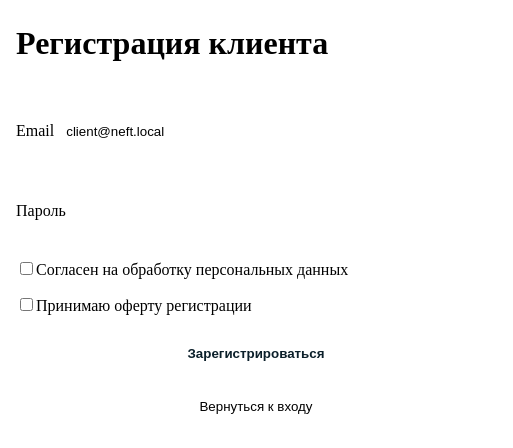
Test: SignupPage › Case A — signup conflict shows message, keeps email, and does not redirect
In the field labelled "Email": (155, 131) [54,99,255,163], type "existing@neft.local"
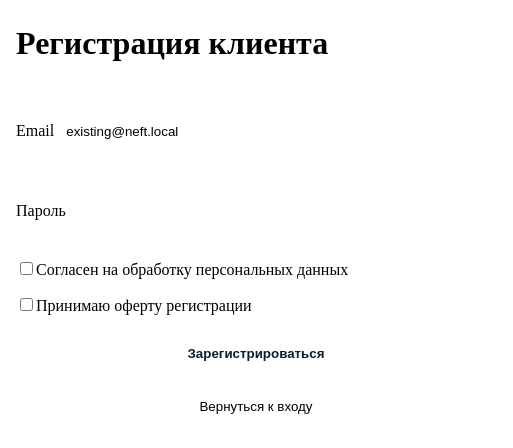
In the password field labelled "Пароль": (166, 211) [66,179,267,243], type "Pass123!"
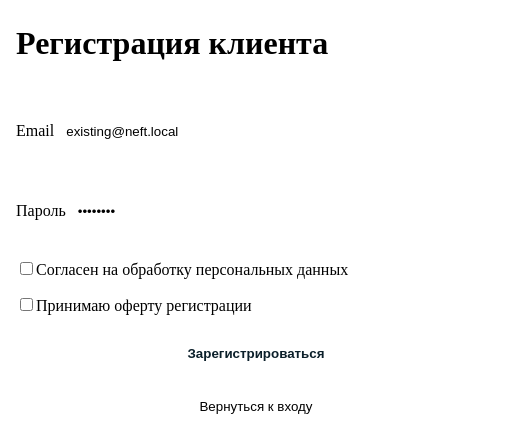
Click the checkbox labelled "Согласен на обработку персональных данных": (26, 269) [20,262,33,275]
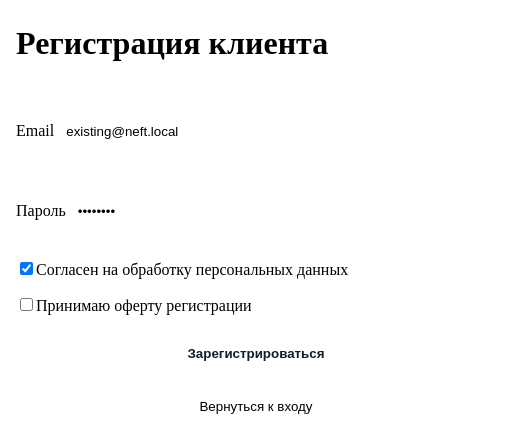
Click the checkbox labelled "Принимаю оферту регистрации": (26, 305) [20,298,33,311]
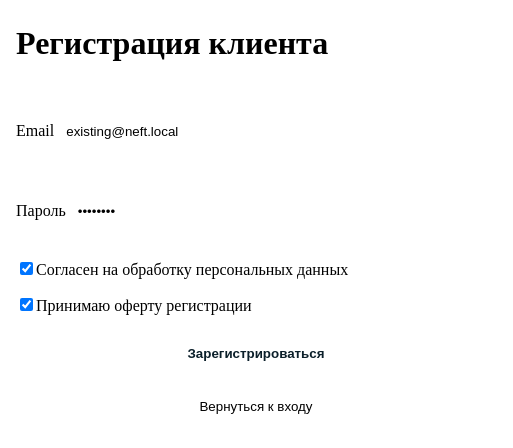
Click the button "Зарегистрироваться": (256, 353) [16,331,496,375]
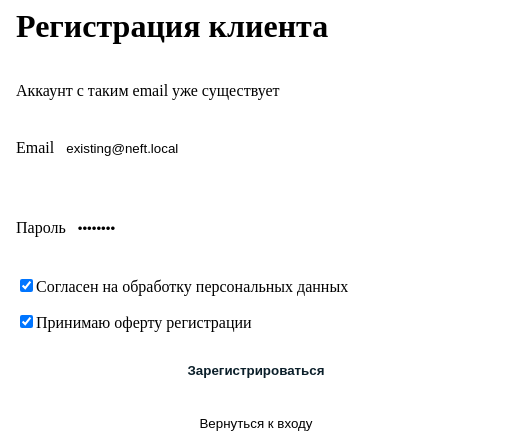
Check: the text "Аккаунт с таким email уже существует" is shown, box [16,82,280,99]
